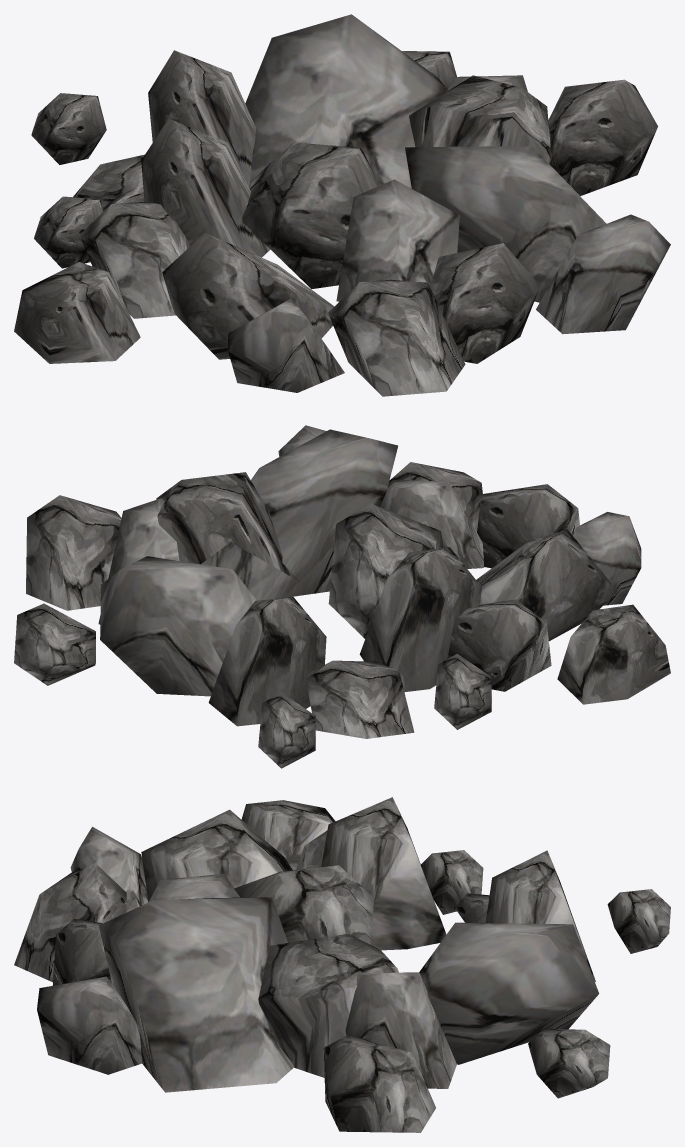
Rendered from forgebonfire.obj.
The picture shows the model from 3 angles, top to bottom: view 1: azimuth 30°, elevation 25°; view 2: azimuth 150°, elevation 25°; view 3: azimuth 270°, elevation 25°; orthographic projection. The views are drawn at different scales.
Parts seen in each view (by area): view 1: forgebonfire; view 2: forgebonfire; view 3: forgebonfire.
Part boxes in pixels (<box>): forgebonfire: <box>14,14,670,396</box>; forgebonfire: <box>14,425,670,768</box>; forgebonfire: <box>14,797,670,1132</box>.
Size of the model in its own units: 3.66 by 0.8134 by 3.4.
Materials: 1 (1 with a texture image).
